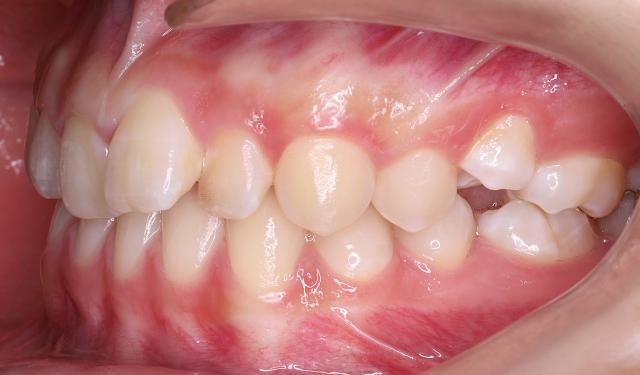canine class III 1/4: (224, 132, 400, 294)
molar class I: (477, 150, 623, 268)
